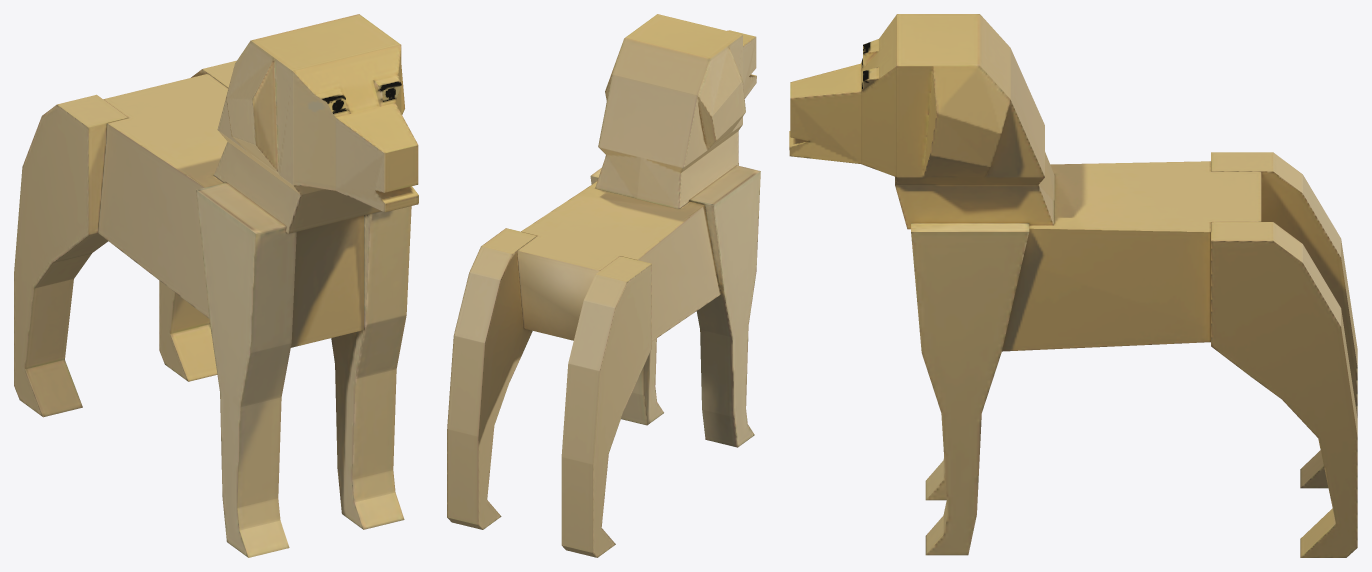
The model's file is simple_dog.glb.
3 renders of one model, left to right at view 1: azimuth 30°, elevation 25°; view 2: azimuth 150°, elevation 25°; view 3: azimuth 270°, elevation 25°, orthographic. The views are drawn at different scales.
Visible parts, largest first — view 1: back_leg, frontleg; view 2: back_leg, frontleg; view 3: back_leg, frontleg.
Boxes of the visible parts, x1,y1,x2,y2 form: back_leg: (14, 14, 418, 417); frontleg: (196, 182, 411, 557); back_leg: (447, 14, 756, 557); frontleg: (590, 165, 760, 447); back_leg: (789, 14, 1357, 557); frontleg: (911, 223, 1029, 555).
Size of the model in its own units: 0.9222 by 2.33 by 2.5.
Materials: 2 (2 with a texture image).
